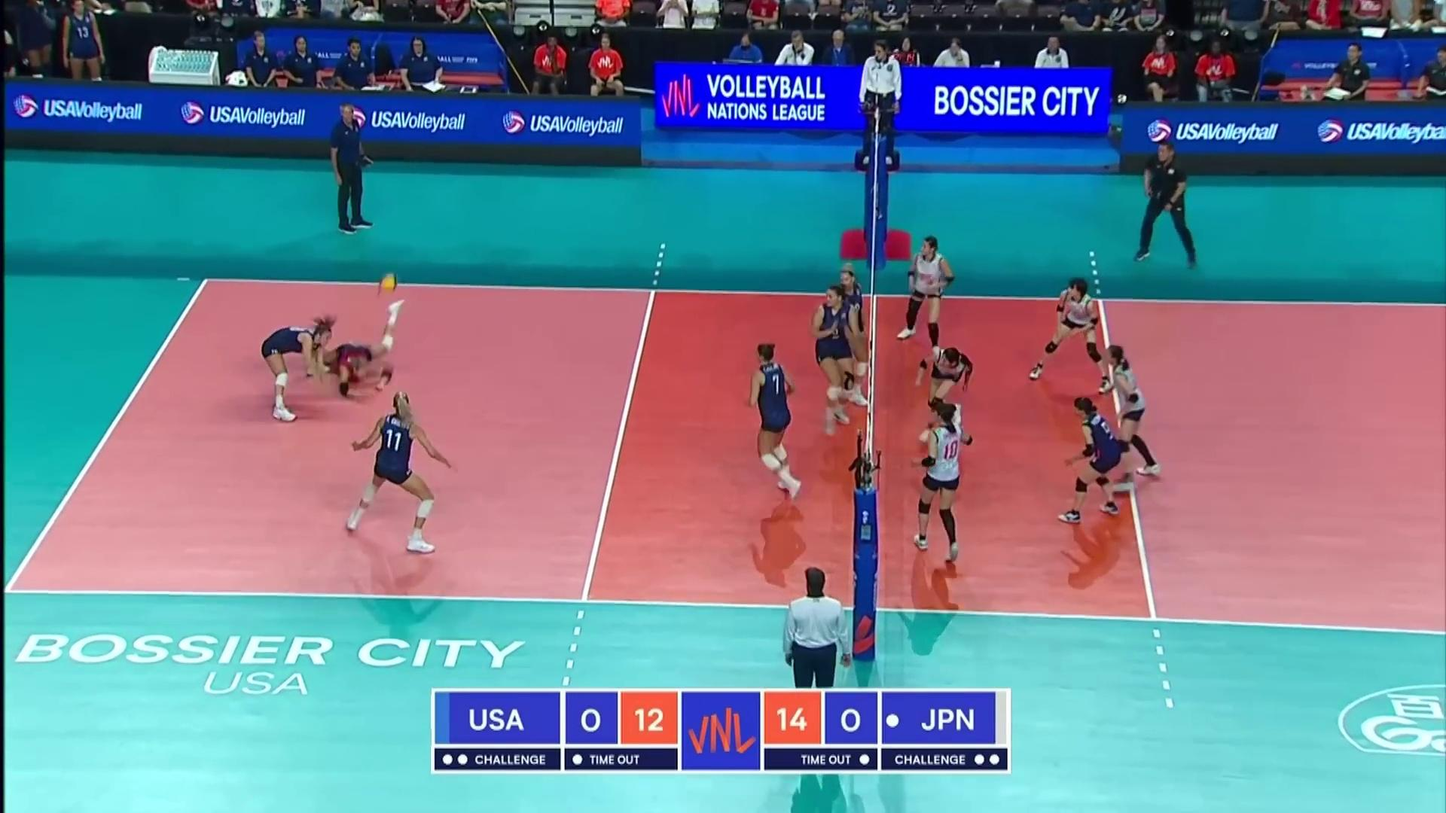player: (348, 389, 453, 551), (298, 297, 404, 400), (1096, 345, 1162, 492), (1030, 277, 1115, 391), (916, 401, 975, 560), (747, 342, 804, 496), (812, 286, 863, 437), (260, 316, 333, 421), (1063, 395, 1123, 521), (898, 236, 953, 359), (914, 345, 974, 450), (831, 263, 869, 406)
refree: (786, 566, 852, 690), (859, 38, 902, 162)
